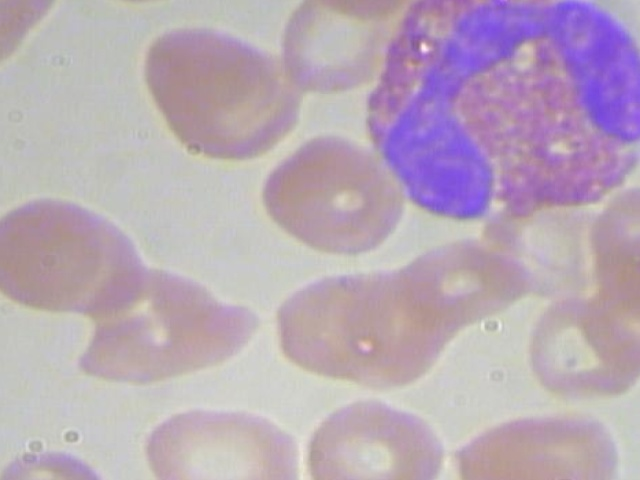RBC: (258, 131, 412, 254), (120, 20, 281, 136), (449, 388, 624, 480), (138, 388, 305, 480), (297, 388, 457, 480), (0, 186, 109, 310), (529, 298, 640, 397), (0, 0, 48, 71)
WBC: (353, 0, 640, 232)
